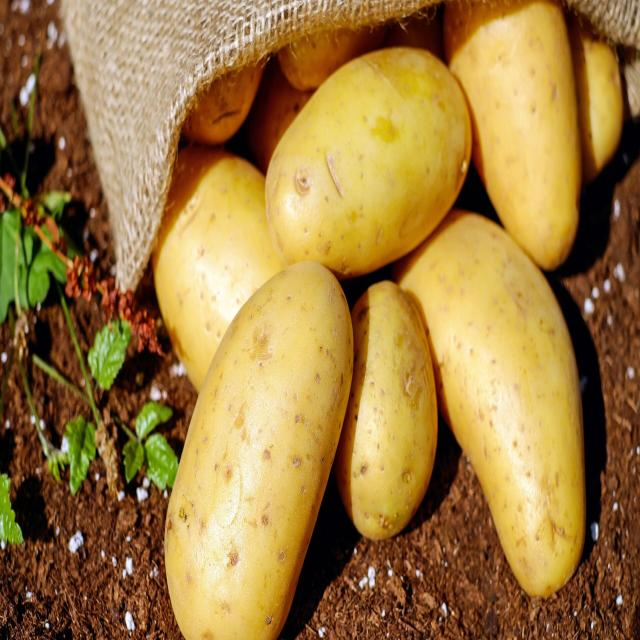Potato: (161, 242, 370, 640), (401, 189, 590, 611), (268, 9, 480, 298)
